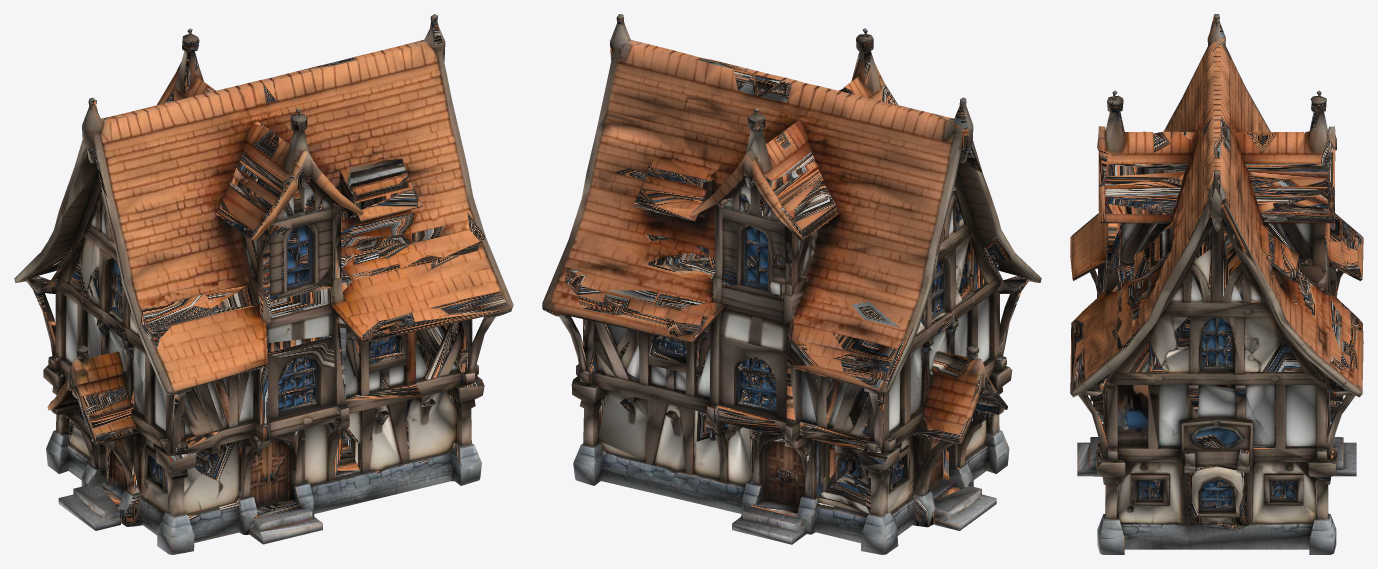
File: Medieval_Cottage.glb
The picture shows the model from 3 angles, left to right: view 1: azimuth 30°, elevation 25°; view 2: azimuth 150°, elevation 25°; view 3: azimuth 270°, elevation 25°; orthographic projection. The views are drawn at different scales.
Visible parts, largest first — view 1: Medieval_Cottage; view 2: Medieval_Cottage; view 3: Medieval_Cottage.
Part boxes in pixels (bbox=[...]): Medieval_Cottage: bbox=[14, 14, 513, 554]; Medieval_Cottage: bbox=[542, 14, 1041, 554]; Medieval_Cottage: bbox=[1070, 14, 1363, 554].
Size of the model in its own units: 1.88 by 2 by 1.36.
1 material, 1 textured.
